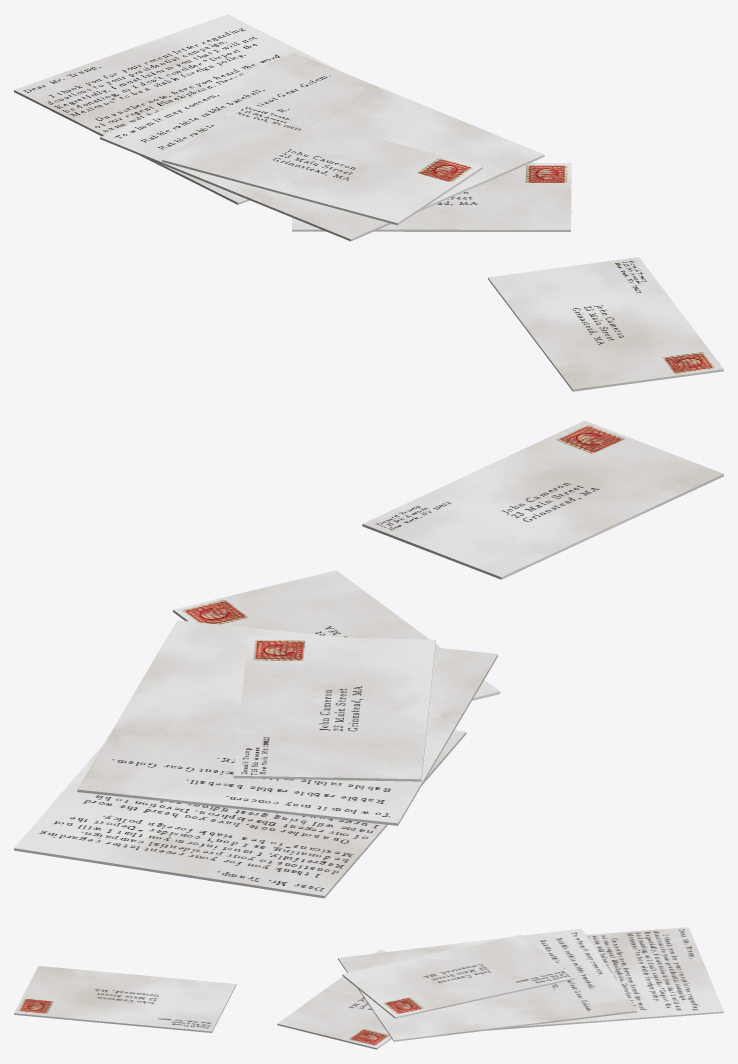
The model's file is letterpile_2.fbx.
The picture shows the model from 3 angles, top to bottom: view 1: azimuth 30°, elevation 25°; view 2: azimuth 150°, elevation 25°; view 3: azimuth 270°, elevation 25°; orthographic projection. The views are drawn at different scales.
Visible parts, largest first — view 1: letterpile2_UV:polySurface5; view 2: letterpile2_UV:polySurface5; view 3: letterpile2_UV:polySurface5.
Boxes of the visible parts, x1,y1,x2,y2 form: letterpile2_UV:polySurface5: (14,14,723,391); letterpile2_UV:polySurface5: (14,420,723,898); letterpile2_UV:polySurface5: (14,927,723,1049).
Size of the model in its own units: 3.41 by 0.0781 by 8.43.
Materials: 1 (1 with a texture image).
